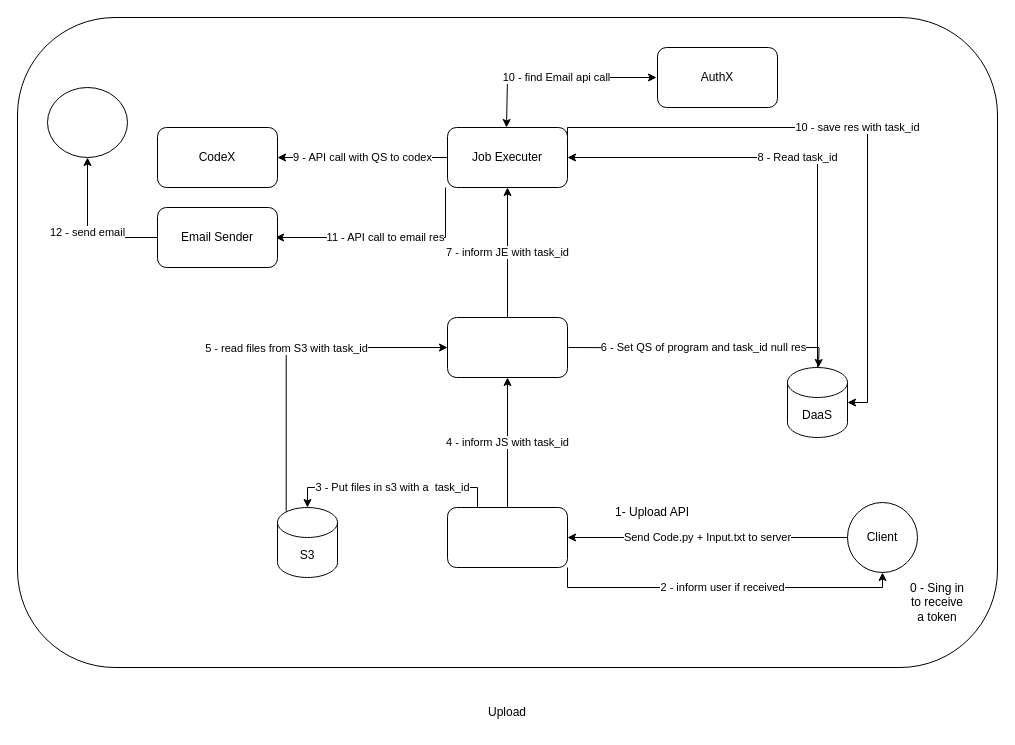
This 1015x745 diagram has some shape labels left out. Each missing label, with the centre of its shape:
"Client Email" goes at (87,122).
"Job Scheduler" goes at (507,347).
"main http server" goes at (507,537).
